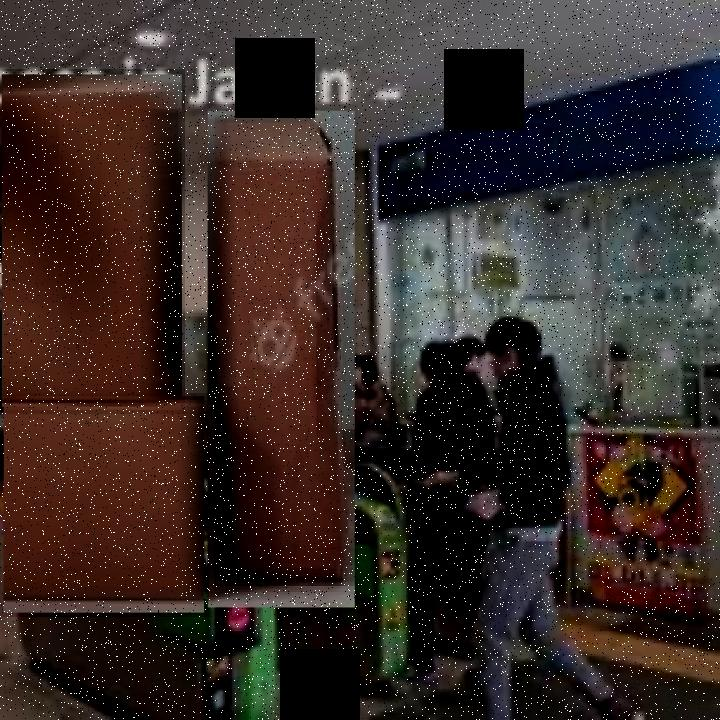box: (206, 104, 358, 616), (0, 69, 185, 414), (0, 393, 209, 617)
